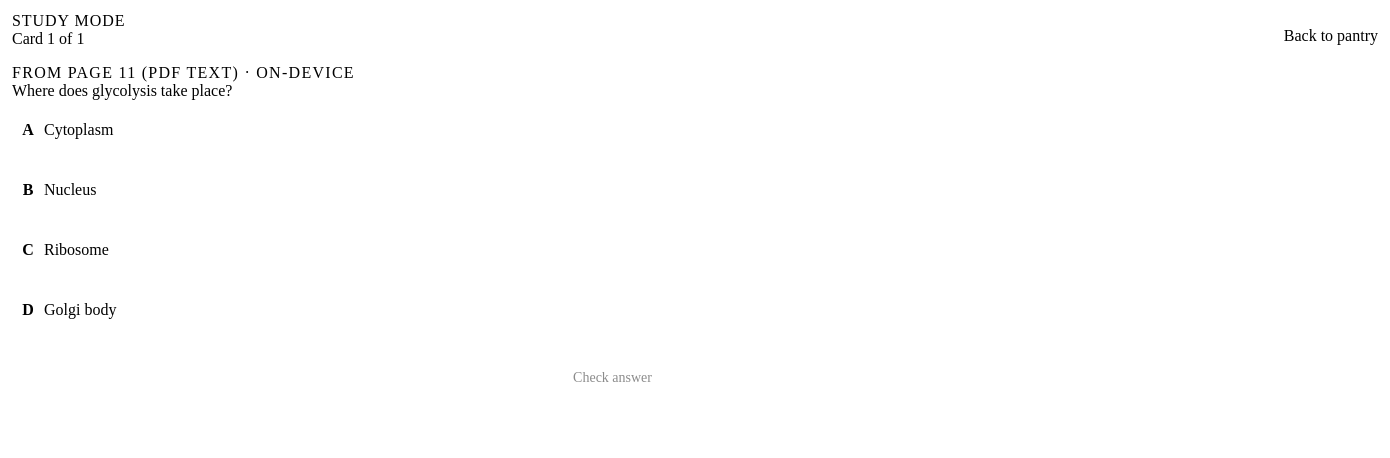
Test: StudySession › does not present a flagged saved answer as an established fact
The width and height of the screenshot is (1390, 458).
Click the button "B Nucleus": click(70, 190) [12, 160, 652, 220]
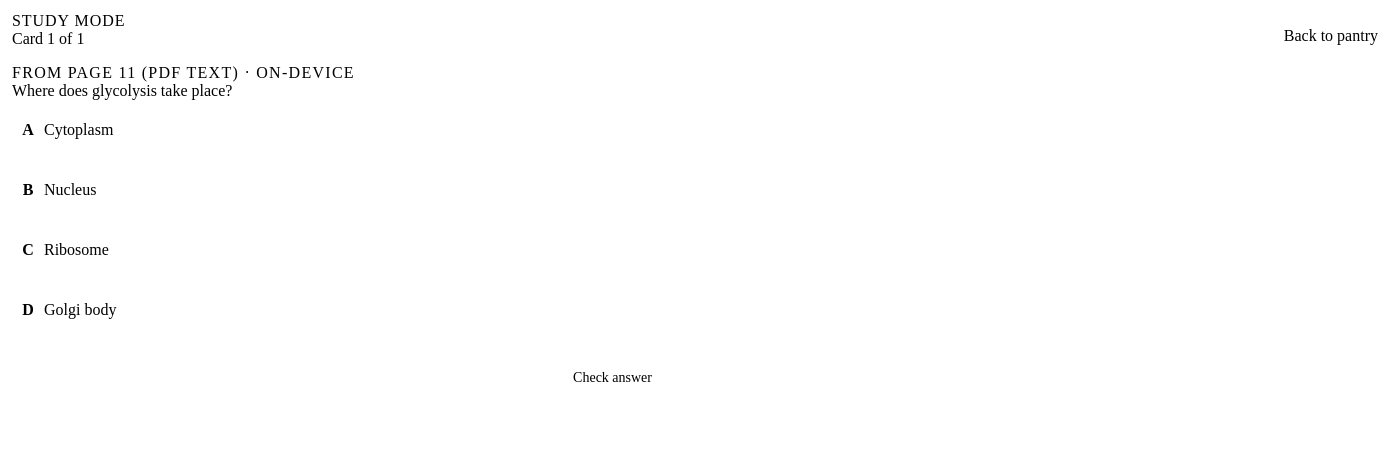
Click the button "Check answer": click(613, 378) [573, 356, 652, 400]
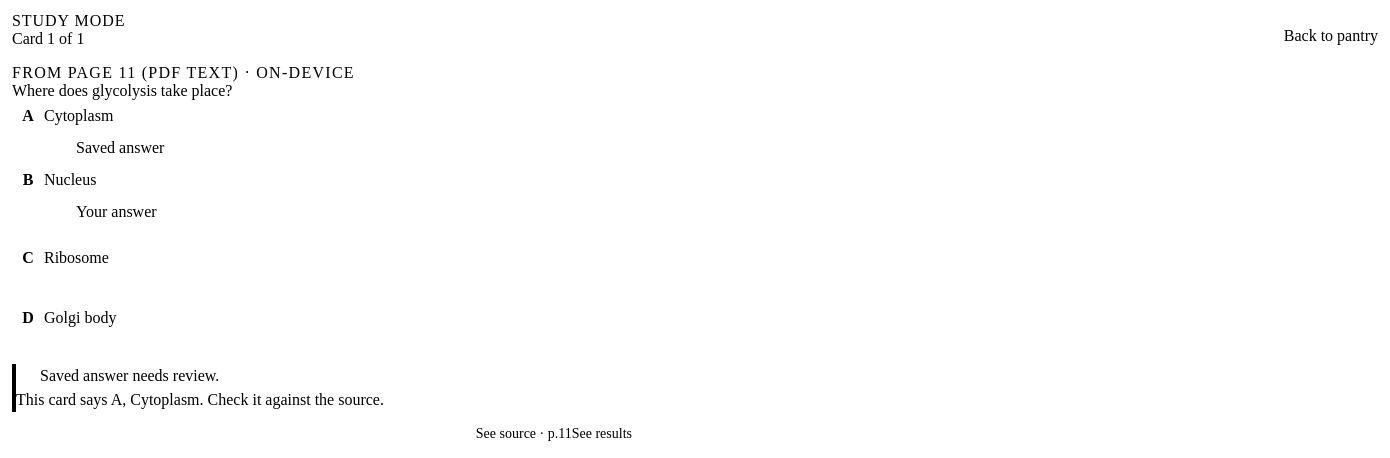
expect the text "Saved answer needs review." is shown: met, box [40, 367, 219, 384]
expect the text "This card says A, Cytoplasm. Check it against the source." is shown: met, box [16, 391, 384, 408]
